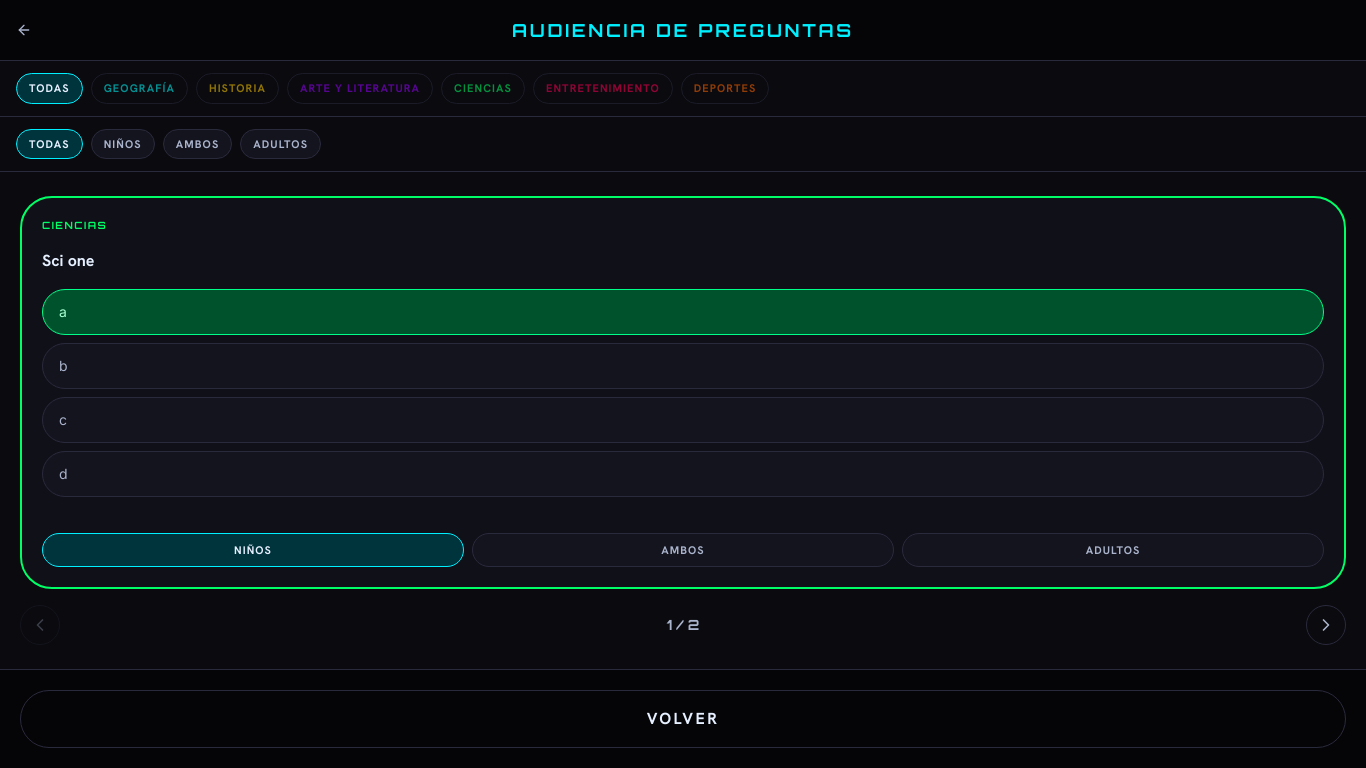
QuestionAudienceManagerScreen › filters the appeared questions by category
The image size is (1366, 768).
Click the button with test id "filter-GOLD_ENT" at (603, 88), box top-left (533, 73), bottom-right (673, 104)
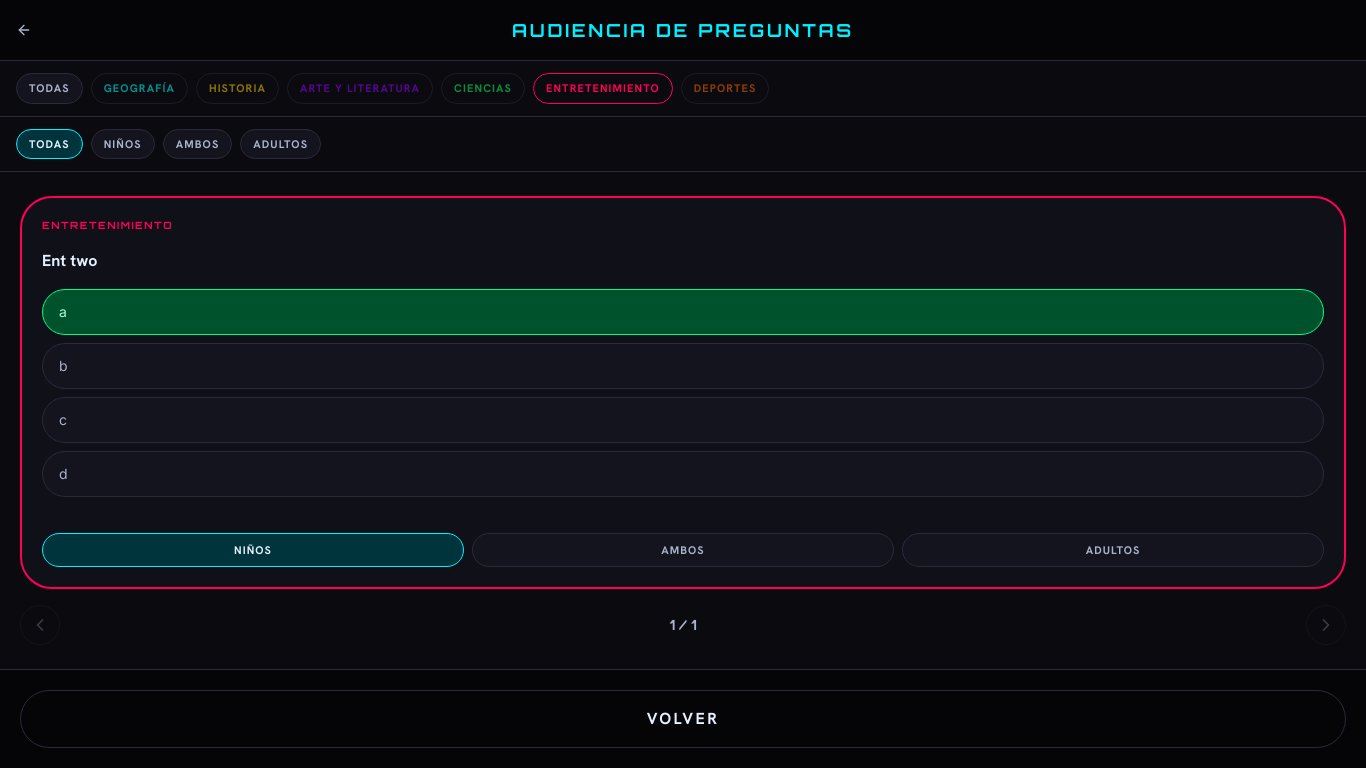
Result: the text with test id "card-counter" reads "1 / 1" at top-left (670, 615), bottom-right (696, 635)
